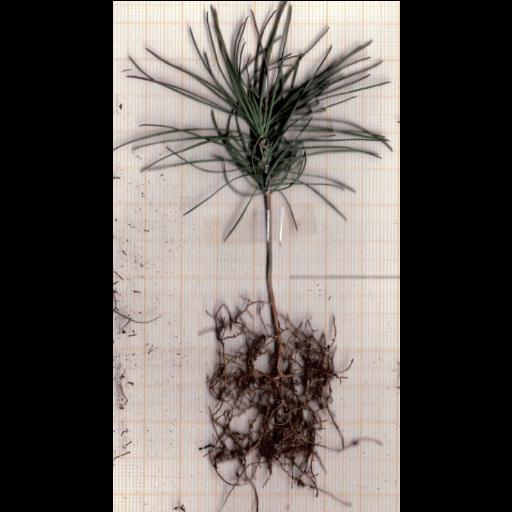flowerCedr: (135, 0, 386, 205)
rootCedr: (203, 300, 344, 511)
stemCedr: (263, 193, 282, 348)
